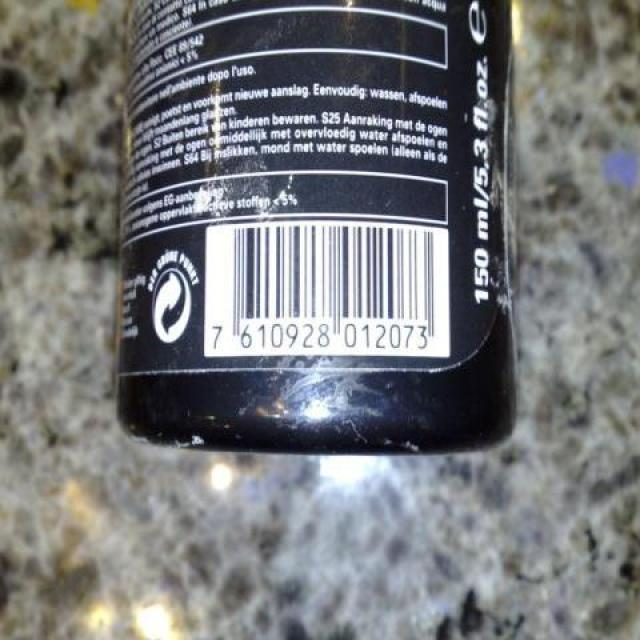Barcode: (206, 223, 450, 361)
